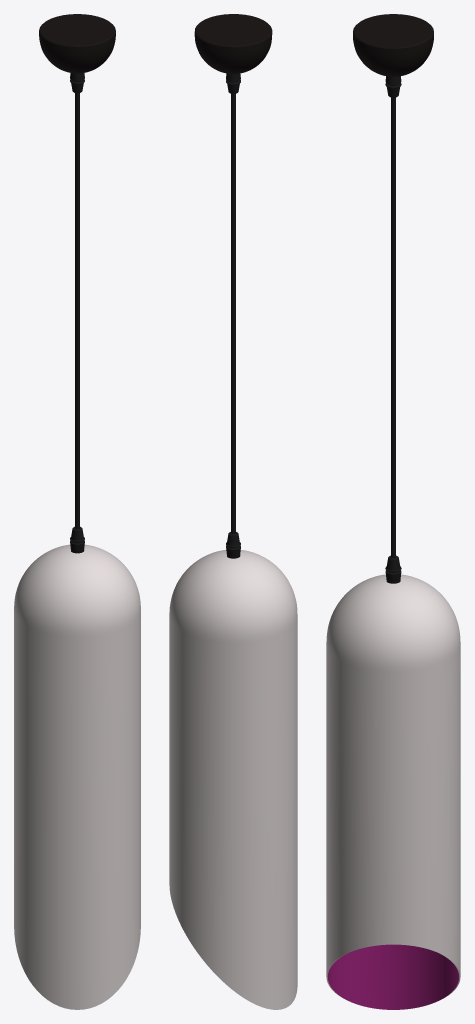
File: Tom_Dixon_Pipe_Pendant_Light_L_mat(2).fbx
3 renders of one model, left to right at view 1: azimuth 90°, elevation 25°; view 2: azimuth 150°, elevation 25°; view 3: azimuth 270°, elevation 25°, orthographic. The views are drawn at different scales.
Parts seen in each view (by area): view 1: Tom_Dixon_Pipe_Pendant_Light_L_mat2; view 2: Tom_Dixon_Pipe_Pendant_Light_L_mat2; view 3: Tom_Dixon_Pipe_Pendant_Light_L_mat2.
Boxes of the visible parts, <box> form: Tom_Dixon_Pipe_Pendant_Light_L_mat2: <box>14,14,140,1009</box>; Tom_Dixon_Pipe_Pendant_Light_L_mat2: <box>169,14,297,1009</box>; Tom_Dixon_Pipe_Pendant_Light_L_mat2: <box>326,14,460,1009</box>.
Bounding box in the file's own units: 19.9 × 19.9 × 165.
